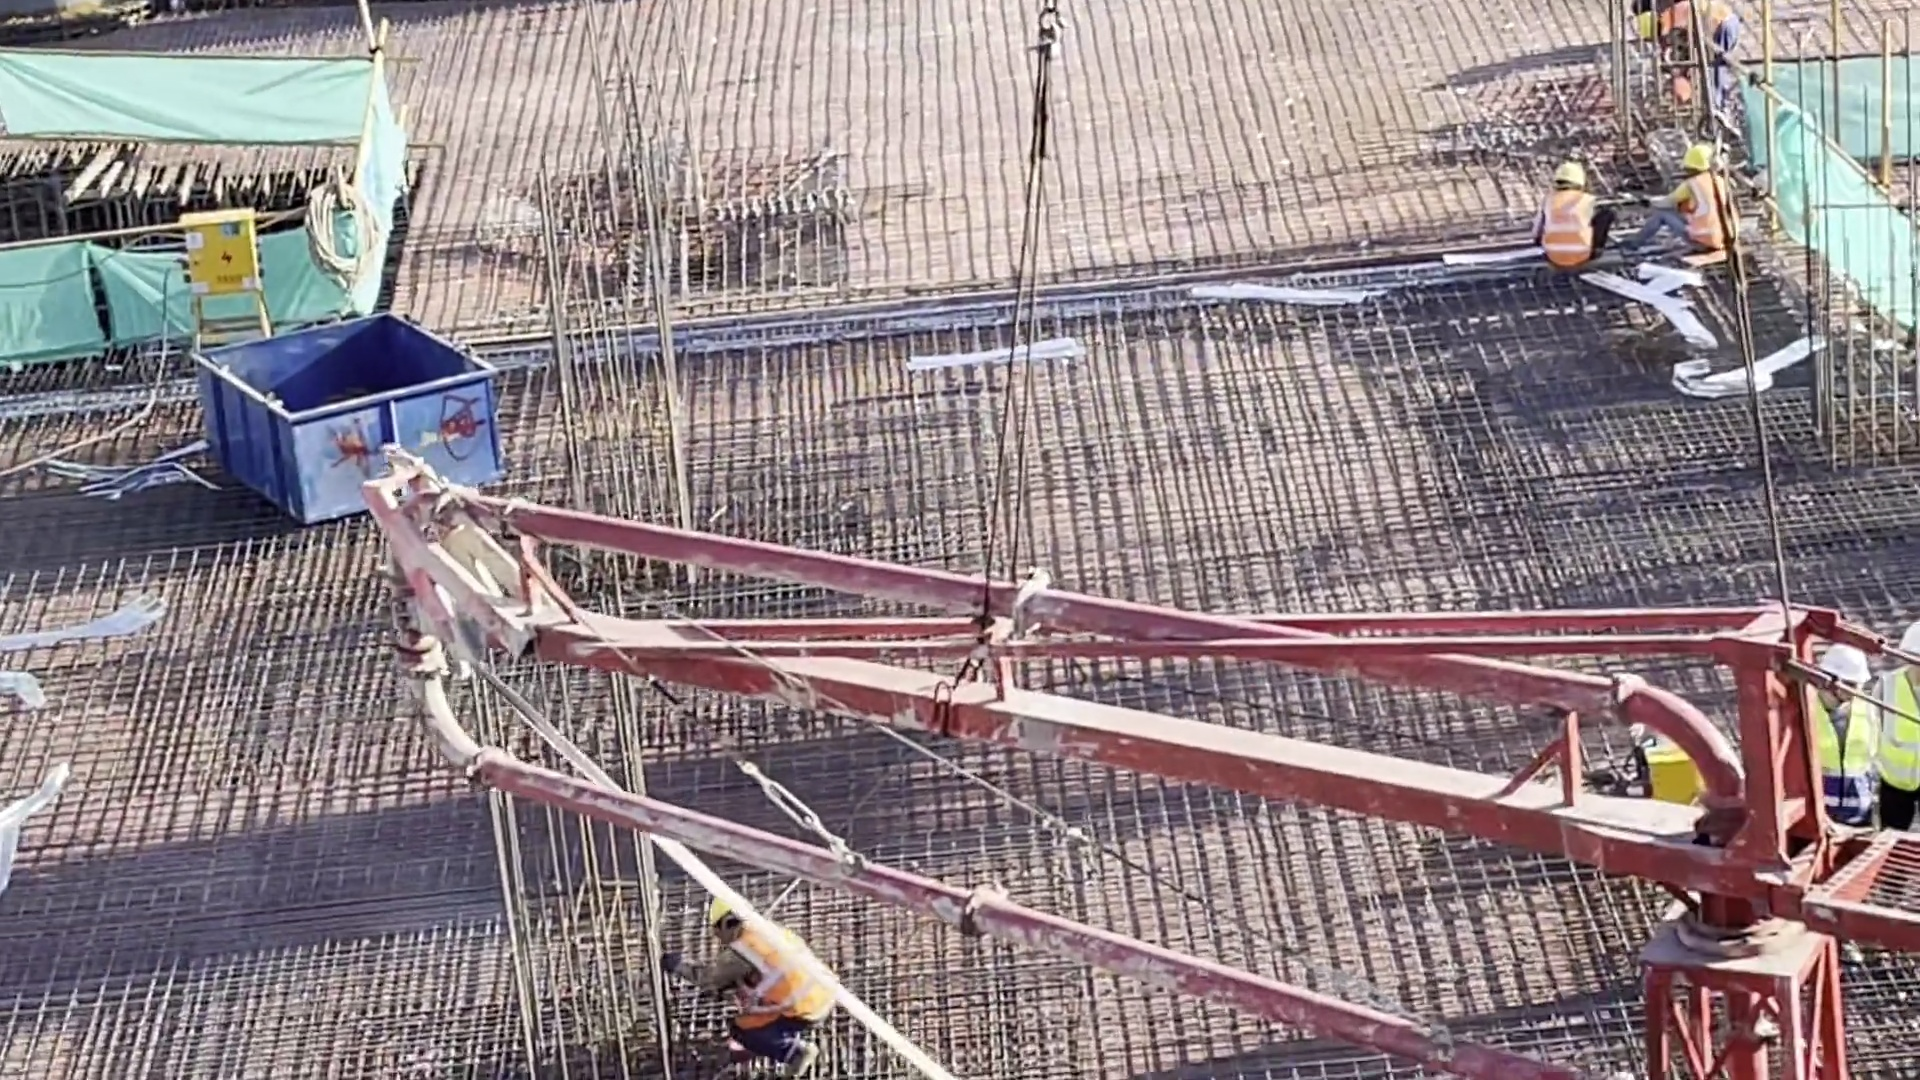ebox: (188, 215, 259, 286)
helmet: (1550, 160, 1603, 199), (1817, 648, 1870, 687), (701, 890, 746, 925), (1682, 149, 1714, 178), (1895, 622, 1920, 652), (1628, 18, 1656, 40)
hopper: (213, 318, 500, 513)
person: (652, 893, 862, 1080), (1775, 642, 1888, 857), (1625, 1, 1752, 138), (1621, 135, 1743, 275), (1525, 157, 1622, 275), (1870, 616, 1920, 833)
vest: (729, 932, 838, 1036), (1822, 708, 1872, 806), (1879, 682, 1920, 789), (1677, 188, 1733, 247), (1536, 201, 1575, 273), (1657, 8, 1730, 38)
